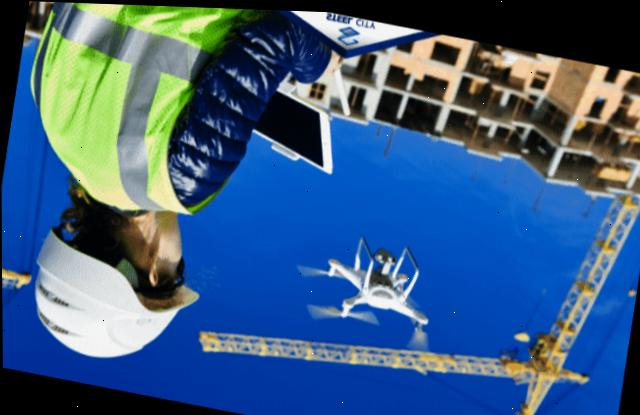helmet: (16, 236, 206, 378)
vest: (16, 0, 266, 223)
